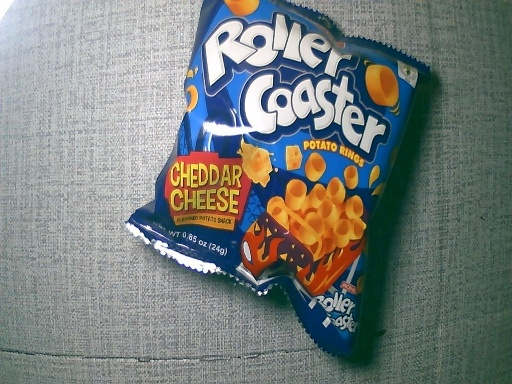plastic: (108, 8, 429, 360)
